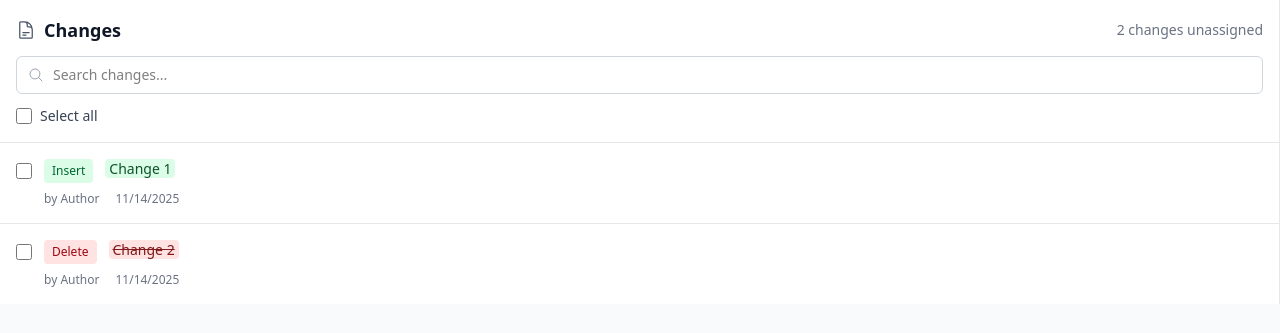
ChangeListPanel › Checkbox Selection › allows selecting individual changes
Click the checkbox next to "Insert".
click(24, 171)  # box [16, 163, 32, 179]
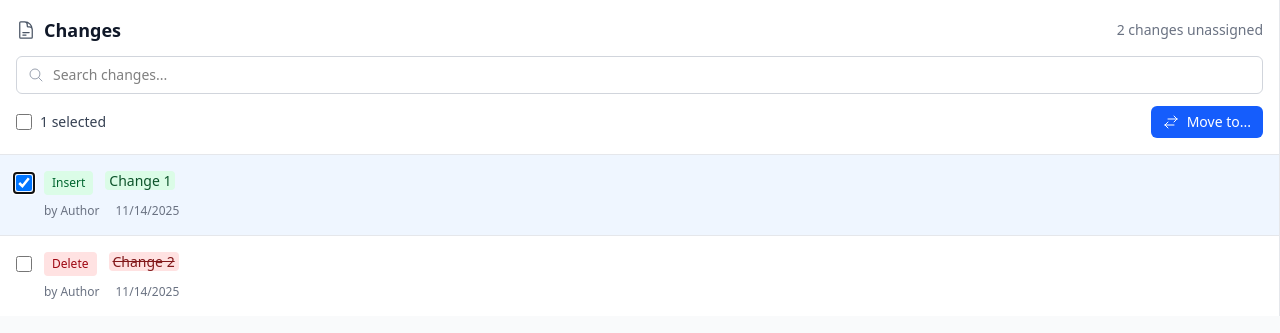
Result: the checkbox next to "Insert" is checked at [16, 175, 32, 191]
Result: the text "1 selected" is shown at [40, 112, 106, 132]
